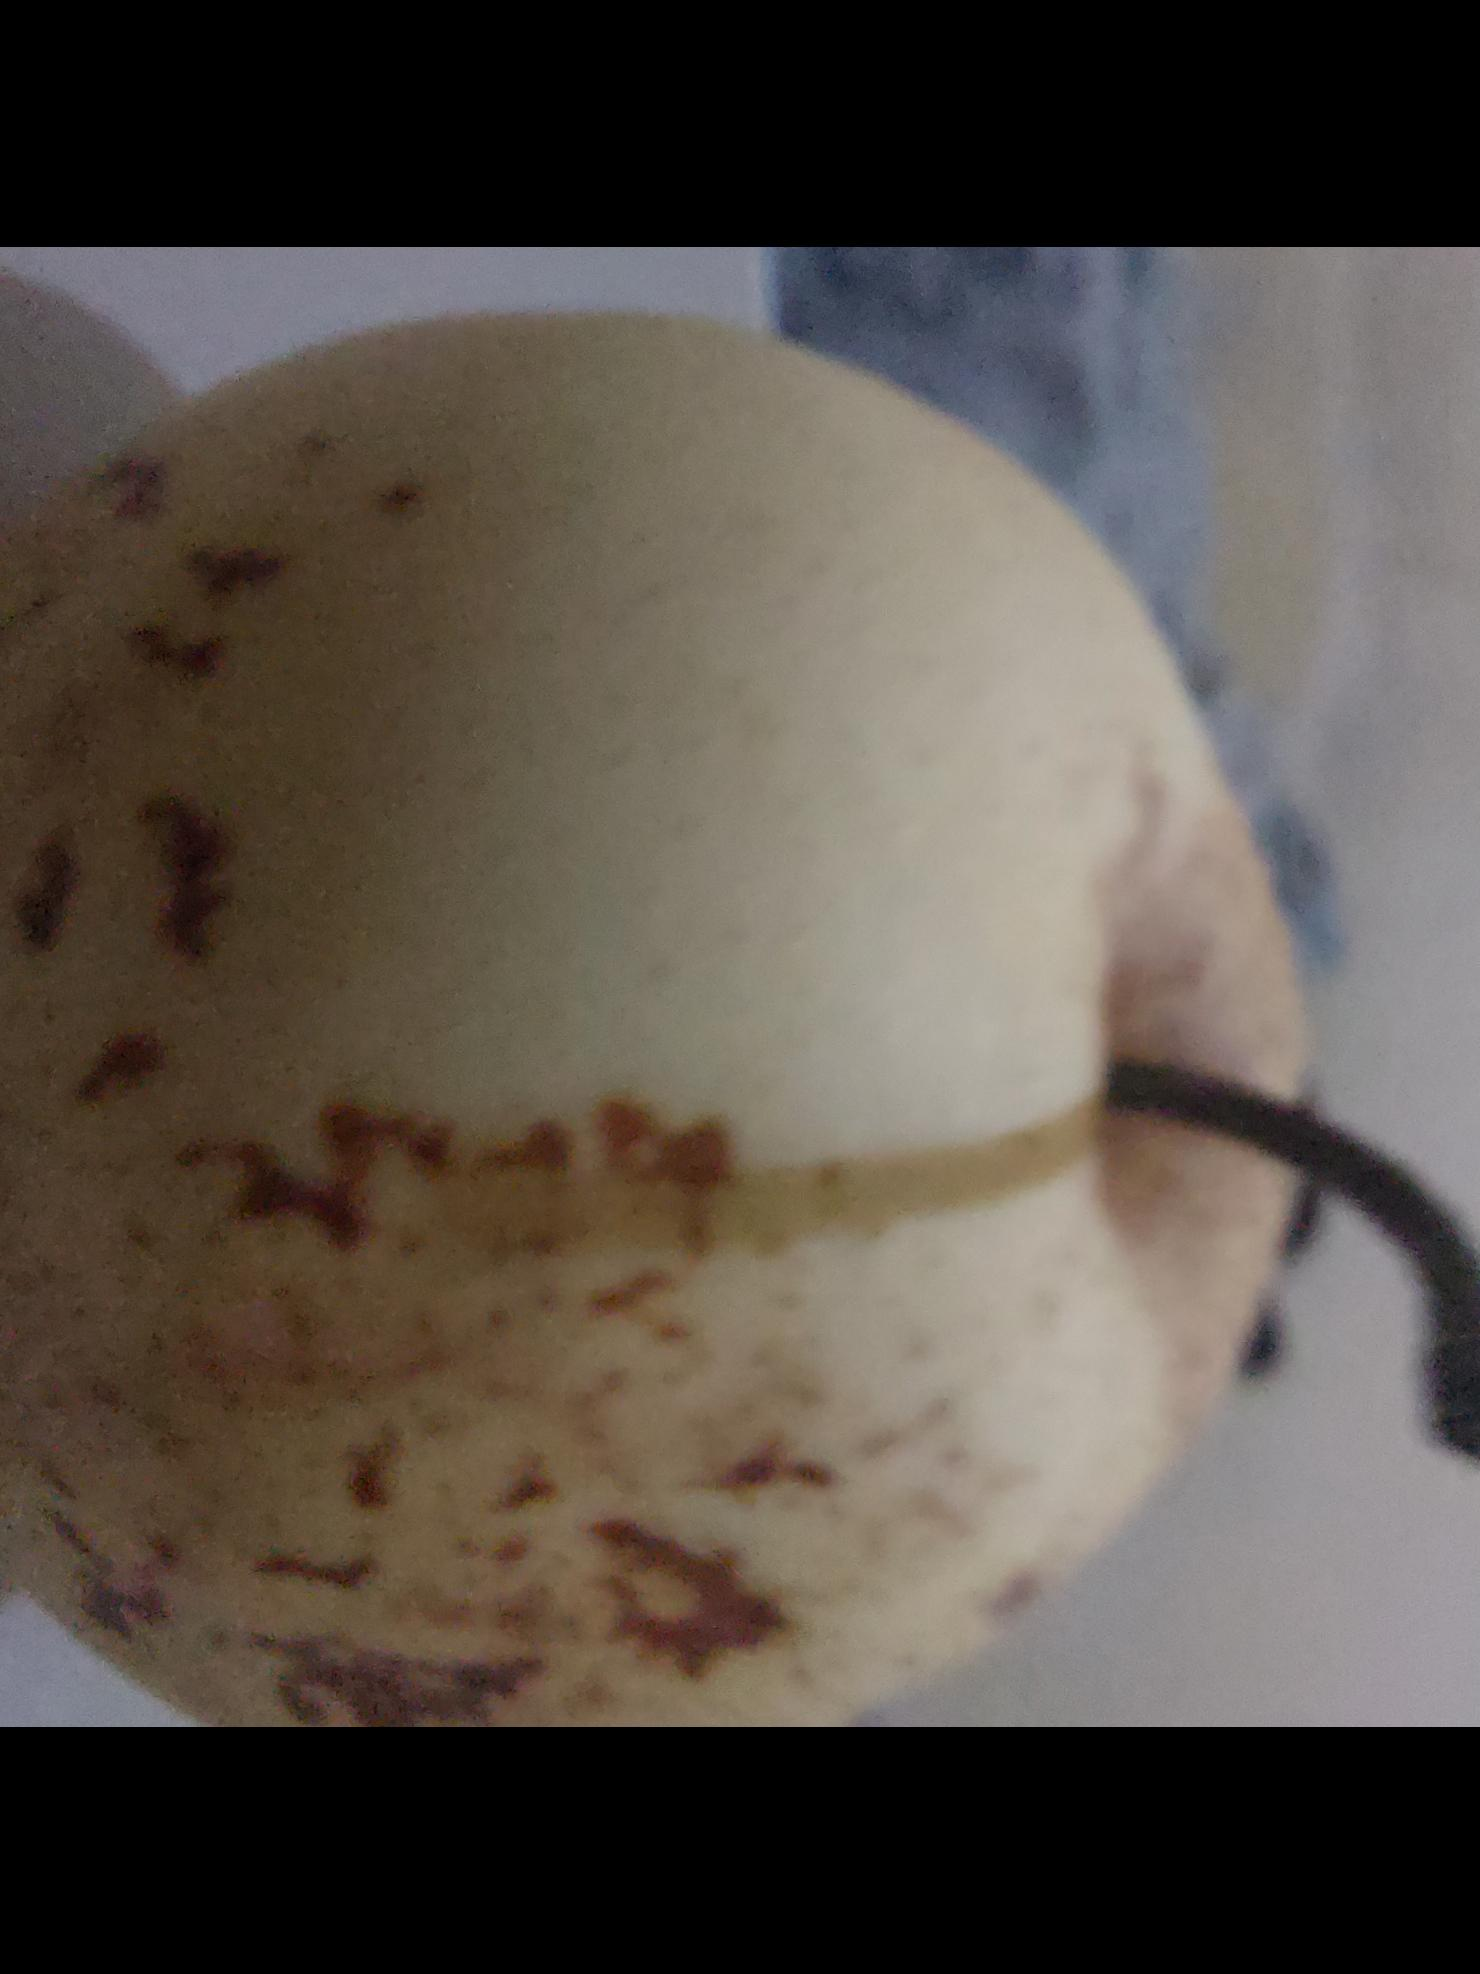Bad Pear: (0, 275, 1337, 1727)
